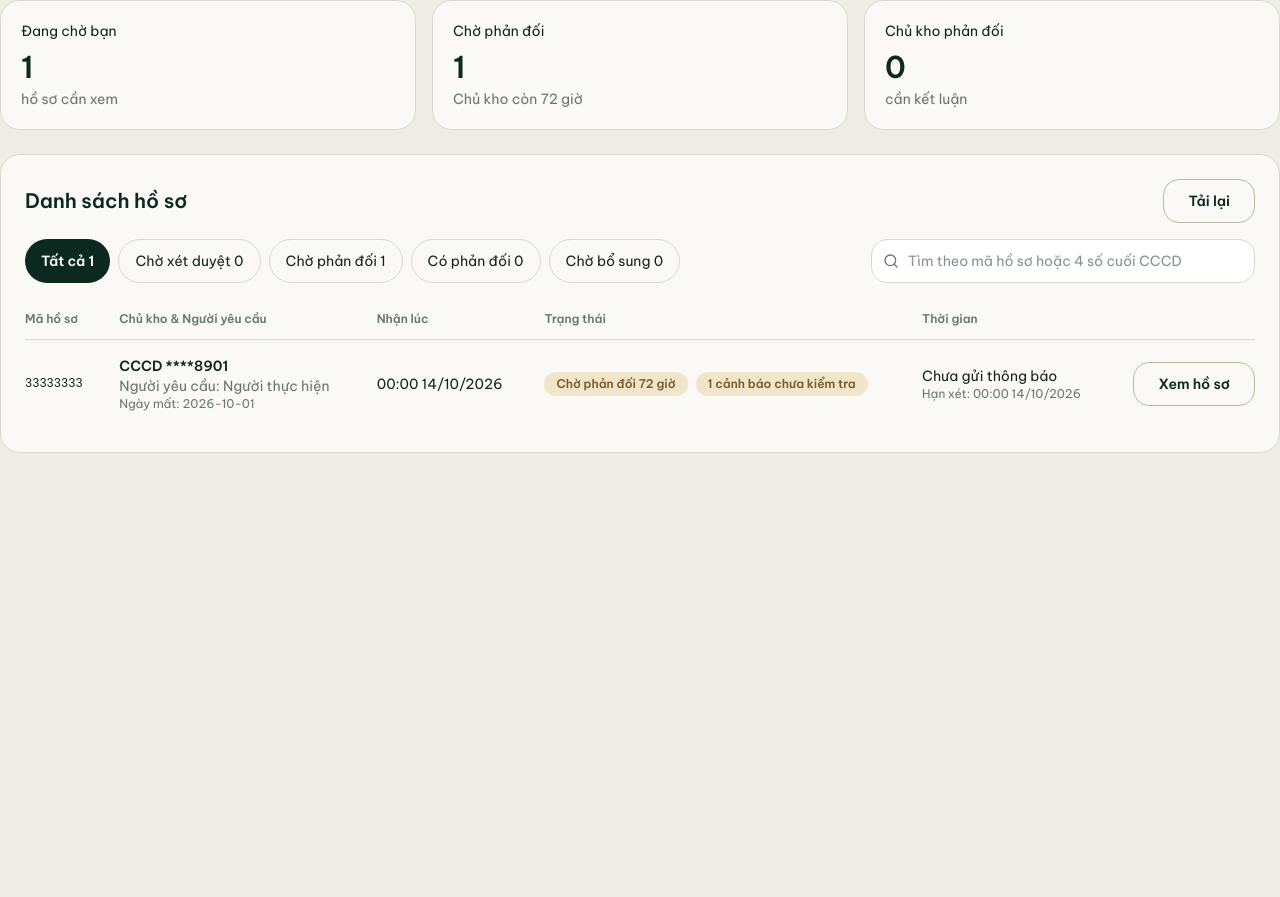
duyệt bị từ chối thì nêu đúng lý do của Backend thay vì câu chung chung
The image size is (1280, 897).
Click the button with aria-label "Xem hồ sơ #33333333" at (1194,384), box [1134, 362, 1255, 406]
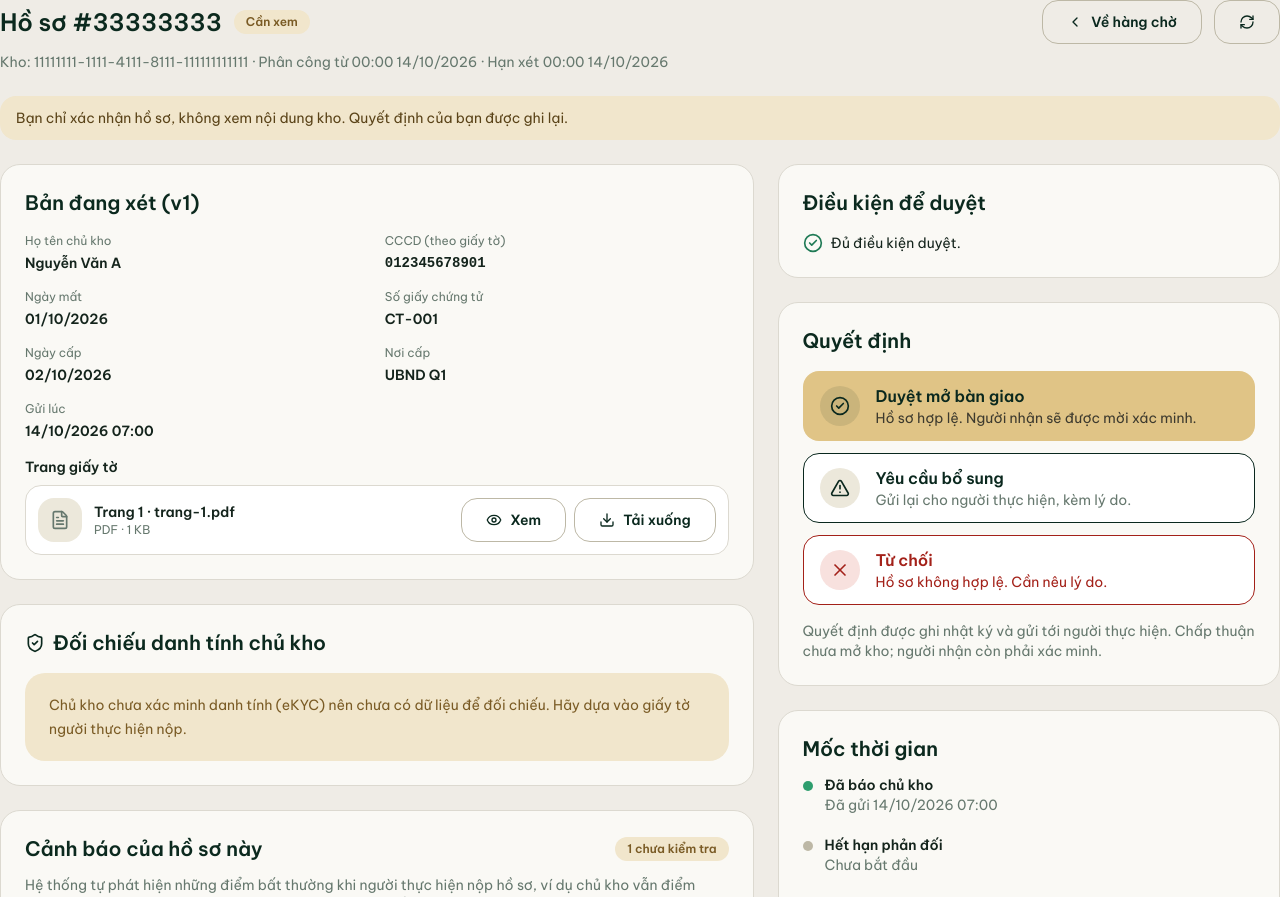
Now the text "012345678901" is shown, box [385, 255, 486, 271]
Click the button "Duyệt mở bàn giao" at (1029,406), box [803, 371, 1255, 441]
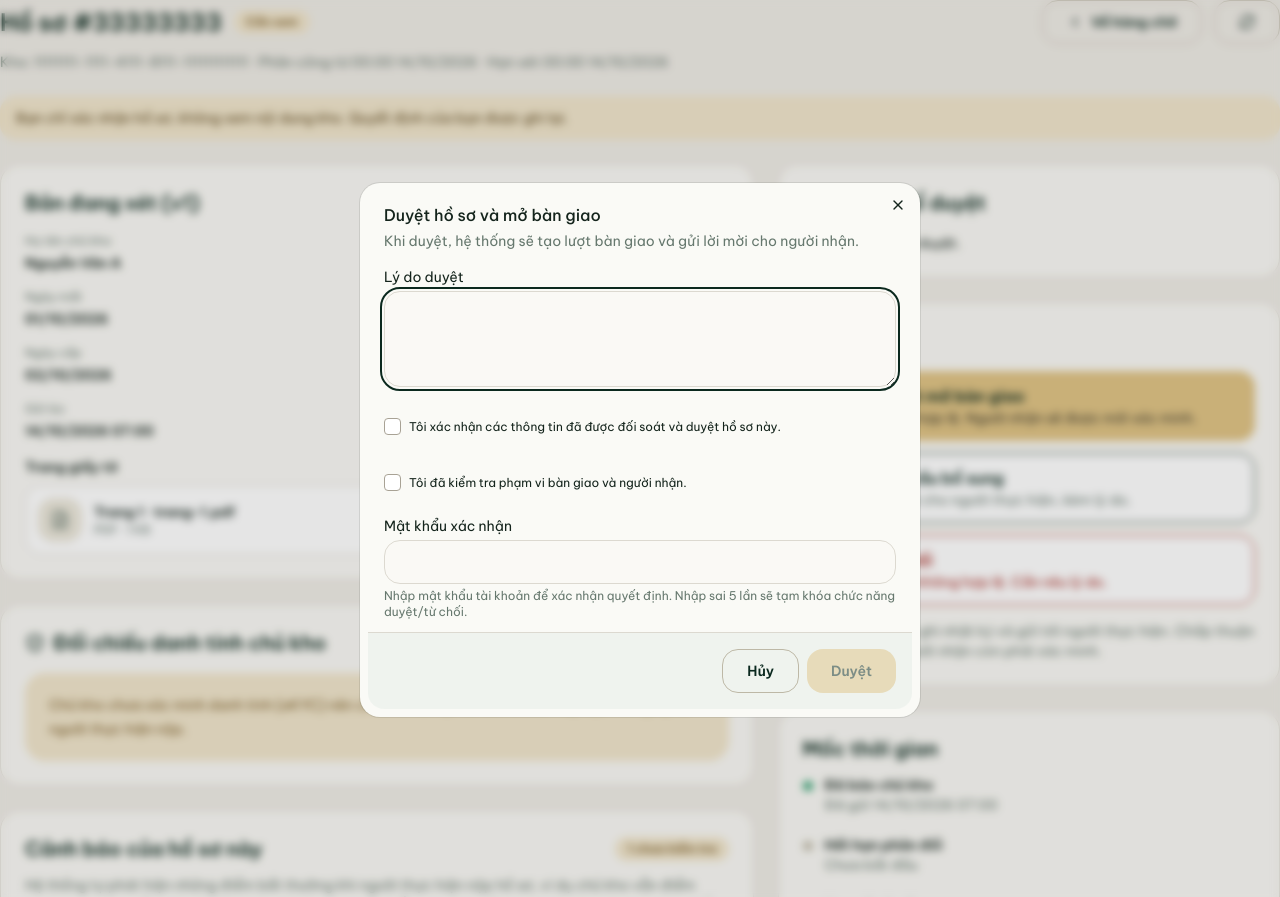
Type "Đã đối soát đầy đủ" into the text box labelled "Lý do duyệt" at (640,339), box [384, 291, 896, 387]
Click the checkbox labelled "Tôi xác nhận các thông tin" at (392,426), box [384, 418, 401, 435]
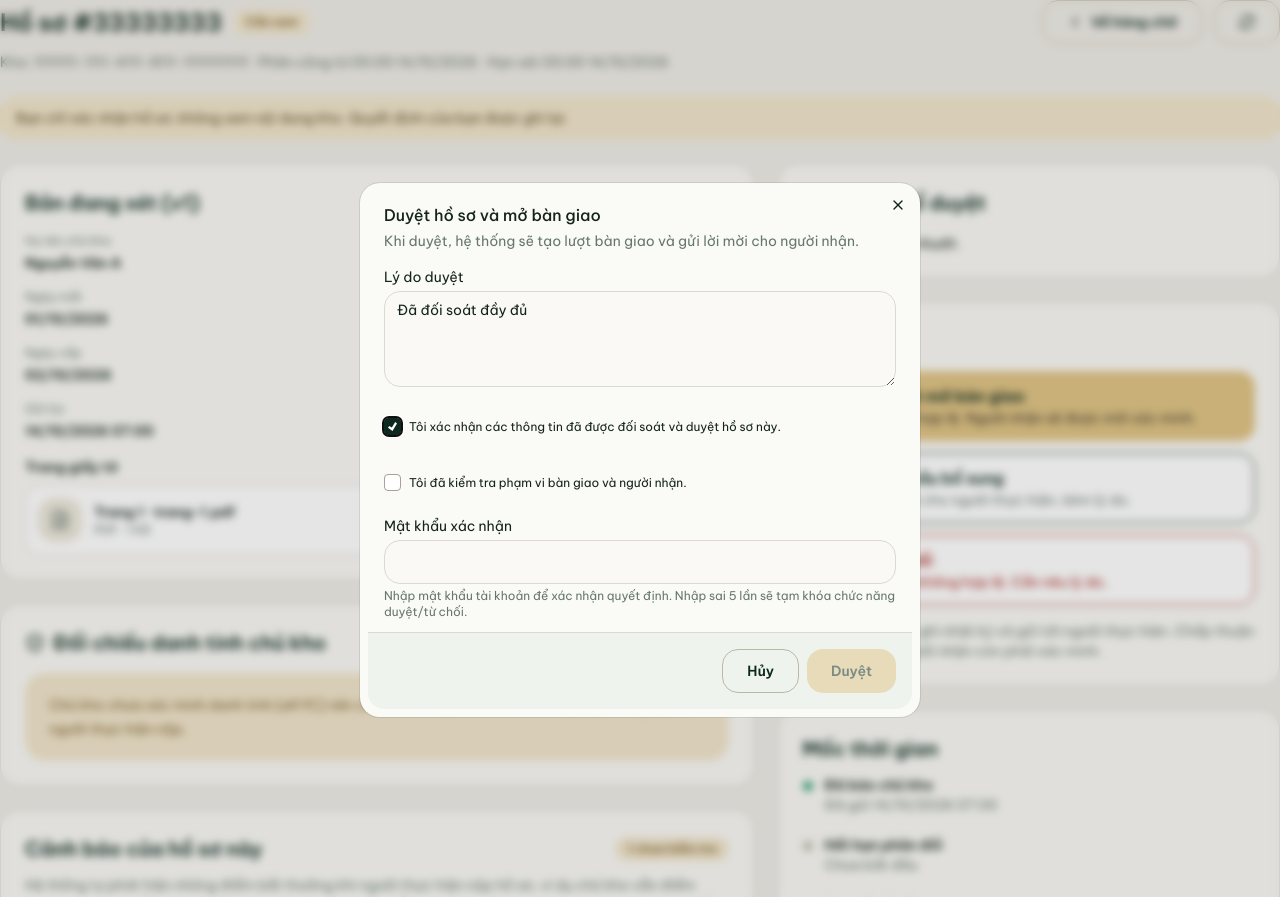
Click the checkbox labelled "Tôi đã kiểm tra phạm vi bàn giao và người nhận." at (392,482), box [384, 474, 401, 491]
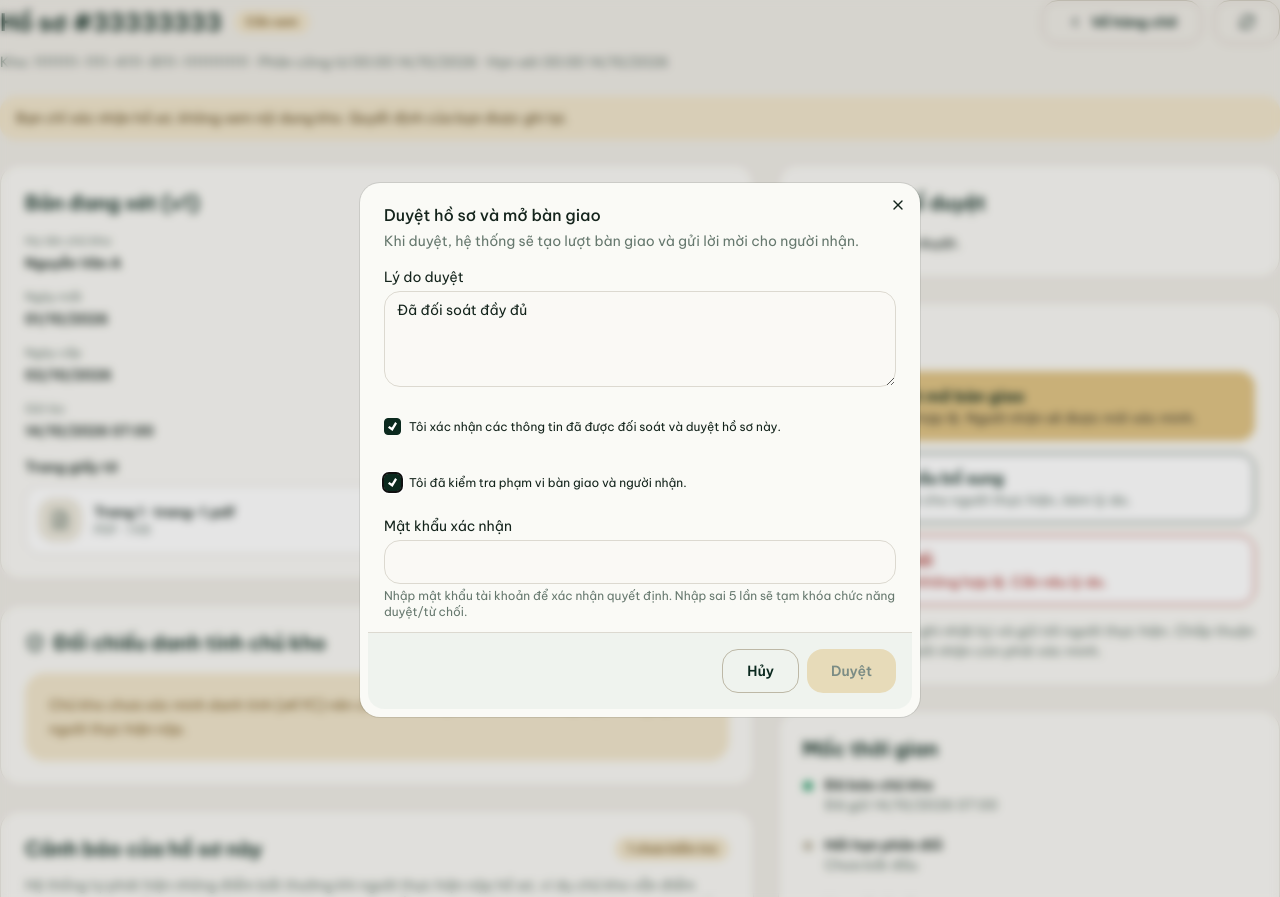
Type "mat-khau-thu" into the password field labelled "Mật khẩu xác nhận" at (640,562), box [384, 540, 896, 584]
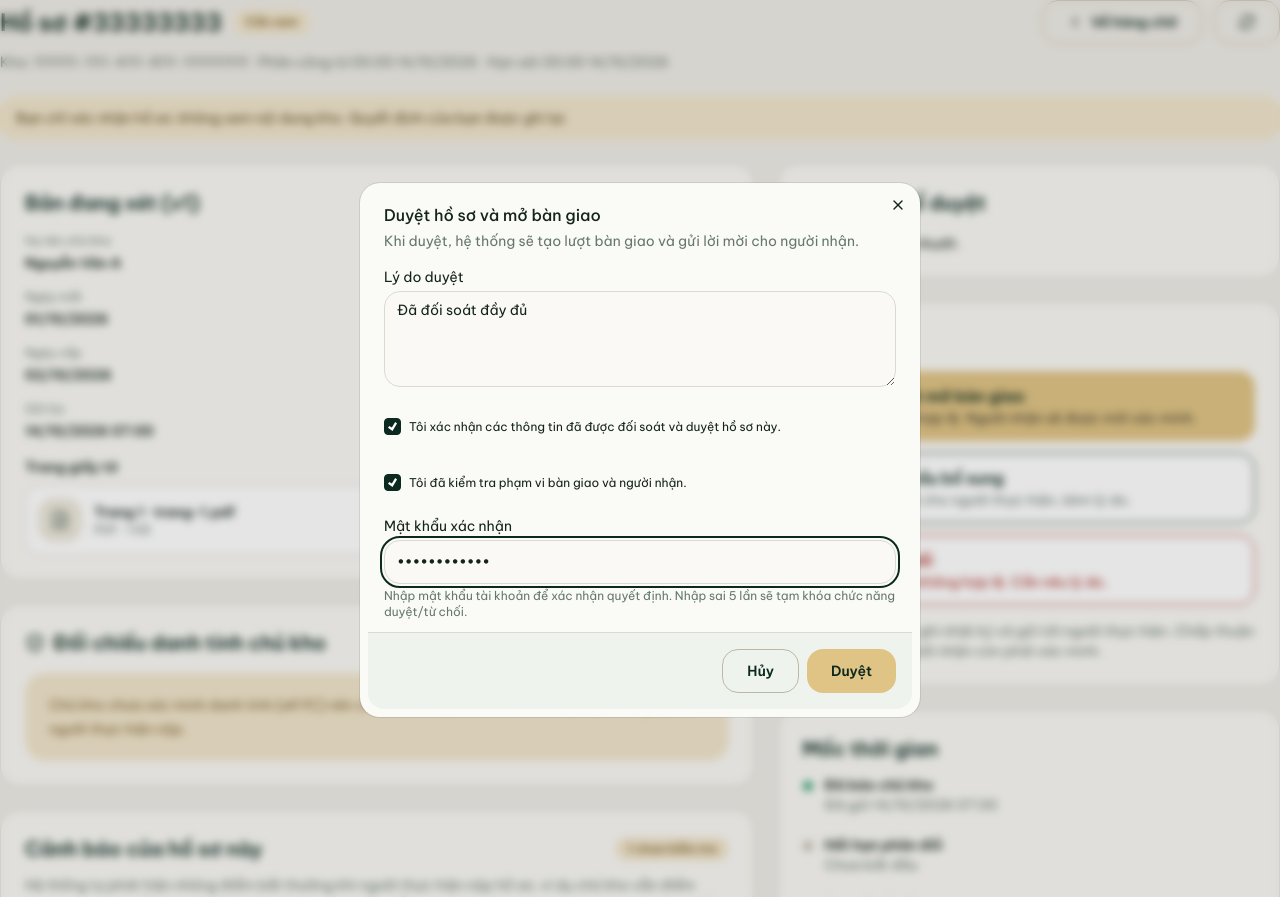
Click the button "Duyệt" at (852,671), box [807, 649, 896, 693]
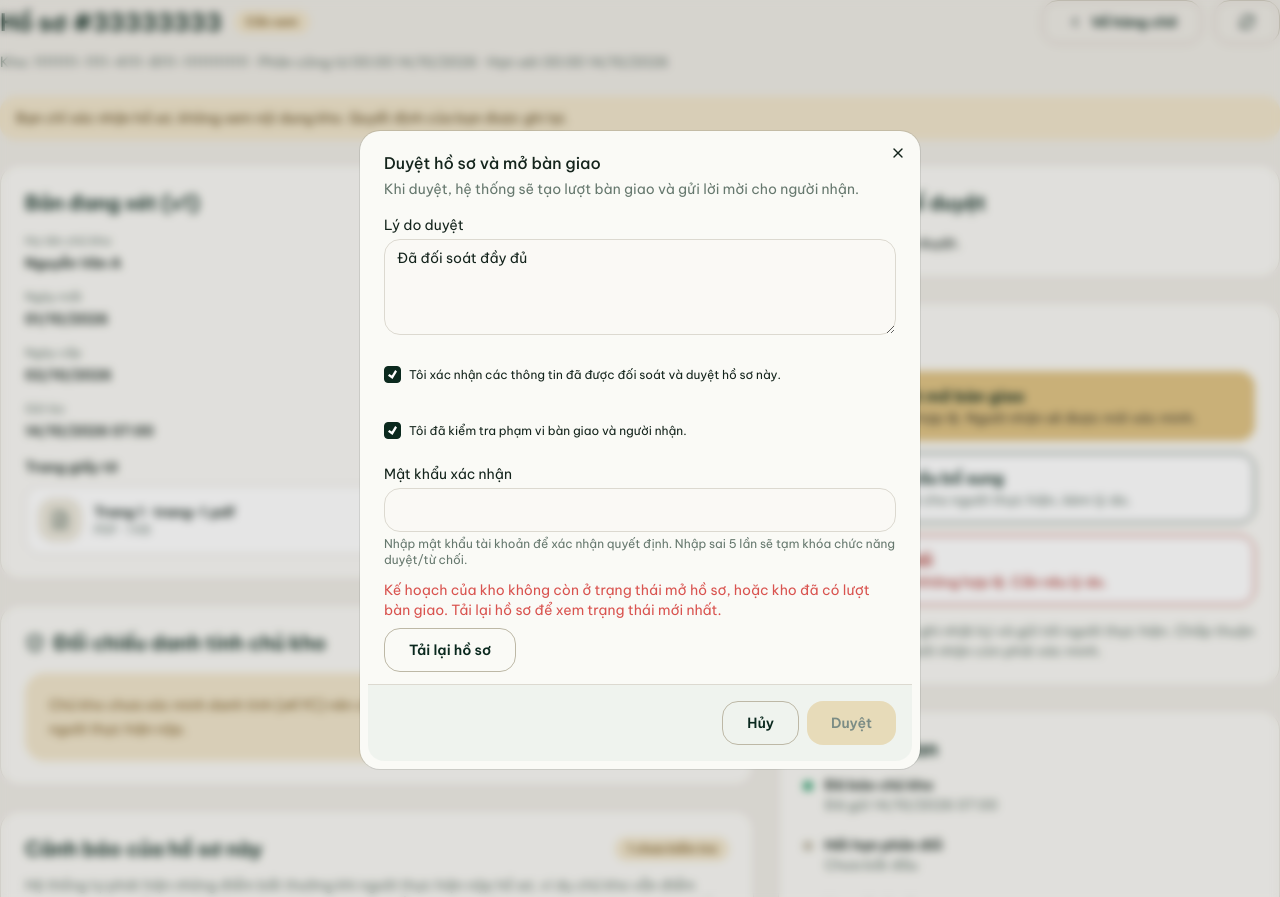
Now the message shows "Kế hoạch của kho không còn ở trạng thái mở hồ sơ", box [384, 581, 870, 619]
